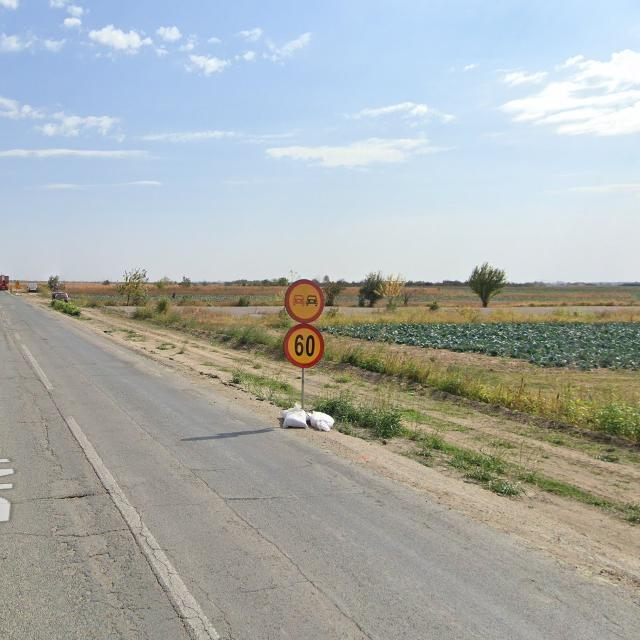forb_overtake: (285, 279, 325, 323)
forb_speed_over_60: (284, 324, 325, 368)
